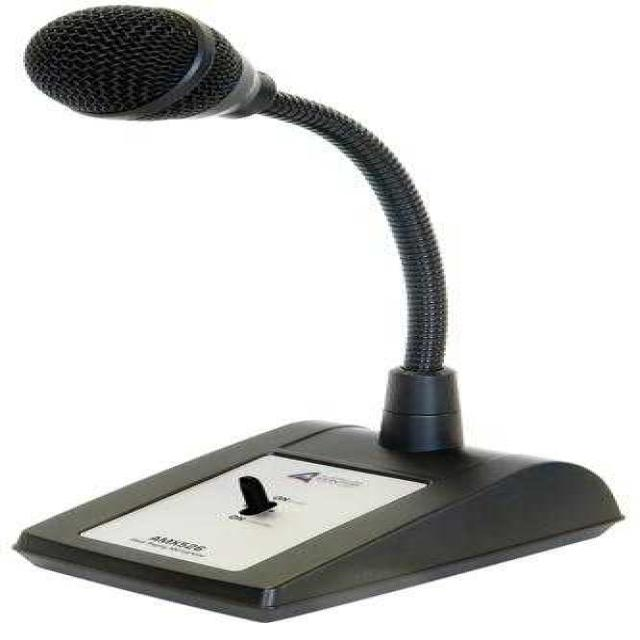microphone: (23, 5, 264, 124)
